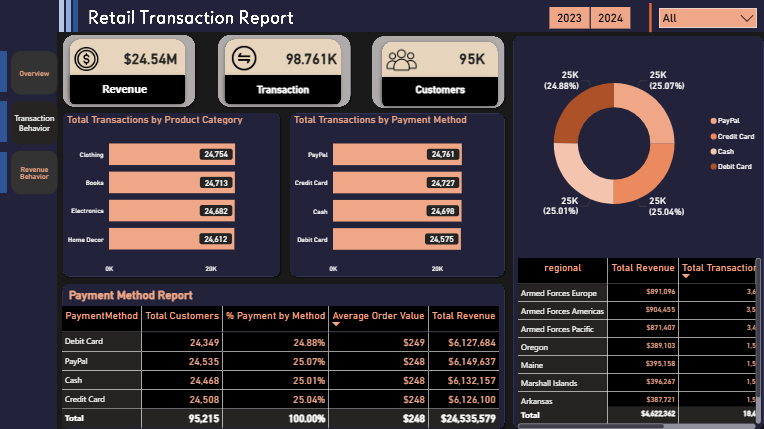

What the dashboard file says about the page in this screenshot:
{"tool":"powerbi","page":{"name":"Transaction Behavior","canvas":[1280,720],"ordinal":1},"visuals":[{"type":"image","box":[0,0,1280,720],"z":0},{"type":"pageNavigator","box":[20,85,78.3,240],"z":1000},{"type":"image","box":[111.7,77.5,67.5,40],"z":2000},{"type":"textbox","box":[131.4,130,155.7,40],"z":3000},{"type":"cardVisual","fields":{"Data":["retail_cleaned.Total Revenue"]},"box":[153.3,68.3,173.3,58.3],"z":4000},{"type":"textbox","box":[408.6,132.9,130,34.3],"z":5000},{"type":"image","box":[375,74,66,47],"z":6000},{"type":"cardVisual","fields":{"Data":["retail_cleaned.Total Transactions"]},"box":[419,68,174,58],"z":7000},{"type":"textbox","box":[670,132.9,131.4,34.3],"z":8000},{"type":"cardVisual","fields":{"Data":["retail_cleaned.Total Customers"]},"box":[665.6,68.9,174.4,57.8],"z":9000},{"type":"image","box":[640,75.6,61.1,50],"z":10000},{"type":"slicer","fields":{"Values":["retail_cleaned.transaction_date.Variation.Date Hierarchy.Year"]},"box":[893,7,183,44],"z":11000},{"type":"slicer","fields":{"Values":["retail_cleaned.product_category"]},"box":[1090,4,183,48],"z":12000},{"type":"barChart","title":"Total Transactions by Product Category","fields":{"Category":["retail_cleaned.product_category"],"Y":["retail_cleaned.Total Transactions"]},"box":[108.6,188.6,365.7,272.9],"z":13000},{"type":"barChart","title":"Total Transactions by Payment Method","fields":{"Category":["retail_cleaned.PaymentMethod"],"Y":["retail_cleaned.Total Transactions"]},"box":[486.7,188.3,365,273.3],"z":14000},{"type":"shape","box":[1075.7,4.3,21.4,48.6],"z":15000},{"type":"pivotTable","fields":{"Rows":["retail_cleaned.PaymentMethod"],"Values":["retail_cleaned.Total Customers","retail_cleaned.% Payment by Method","retail_cleaned.Average Order Value","retail_cleaned.Total Revenue"]},"box":[100,505.7,748.6,214.3],"z":16000},{"type":"textbox","box":[111.7,475,456.7,33.3],"z":17000},{"type":"donutChart","fields":{"Category":["retail_cleaned.PaymentMethod"],"Y":["retail_cleaned.Total Transactions"]},"box":[860,68.3,413.3,341.7],"z":18000},{"type":"pivotTable","fields":{"Rows":["retail_cleaned.regional"],"Values":["retail_cleaned.Total Revenue","retail_cleaned.Total Transactions","retail_cleaned.Total Customers"]},"box":[860,425,415,295],"z":19000}]}

Visuals, with their boxes in screenshot pixels (x1, y1, x2, y2), scaled from the page's 1280x720 canvas onto the 764x429 screenshot:
image: (0, 0, 763, 428)
pageNavigator: (12, 51, 59, 194)
image: (67, 46, 107, 70)
textbox: (78, 77, 171, 101)
cardVisual - retail_cleaned.Total Revenue: (92, 41, 195, 75)
textbox: (244, 79, 321, 100)
image: (224, 44, 263, 72)
cardVisual - retail_cleaned.Total Transactions: (250, 41, 354, 75)
textbox: (400, 79, 478, 100)
cardVisual - retail_cleaned.Total Customers: (397, 41, 501, 75)
image: (382, 45, 418, 75)
slicer - retail_cleaned.transaction_date.Variation.Date Hierarchy.Year: (533, 4, 642, 30)
slicer - retail_cleaned.product_category: (651, 2, 760, 31)
"Total Transactions by Product Category" barChart: (65, 112, 283, 275)
"Total Transactions by Payment Method" barChart: (290, 112, 508, 275)
shape: (642, 3, 655, 32)
pivotTable - retail_cleaned.PaymentMethod x retail_cleaned.Total Customers: (60, 301, 507, 428)
textbox: (67, 283, 339, 303)
donutChart - retail_cleaned.PaymentMethod x retail_cleaned.Total Transactions: (513, 41, 760, 244)
pivotTable - retail_cleaned.regional x retail_cleaned.Total Revenue: (513, 253, 761, 428)
